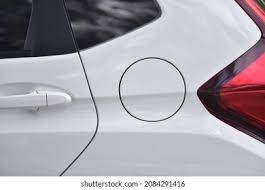closed: (116, 53, 189, 125)
